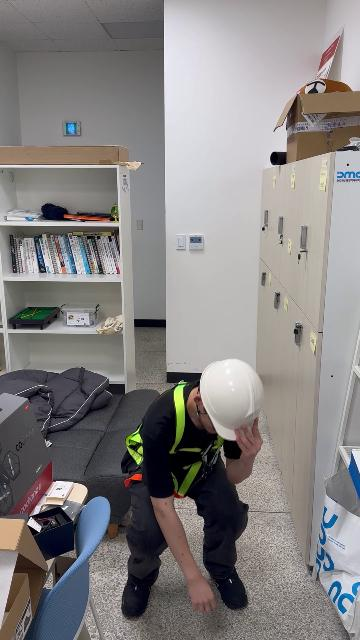helmet_worn: (199, 360, 262, 435)
shoe_worn: (121, 569, 157, 616), (210, 567, 247, 609)
vest_worn: (123, 384, 218, 495)
